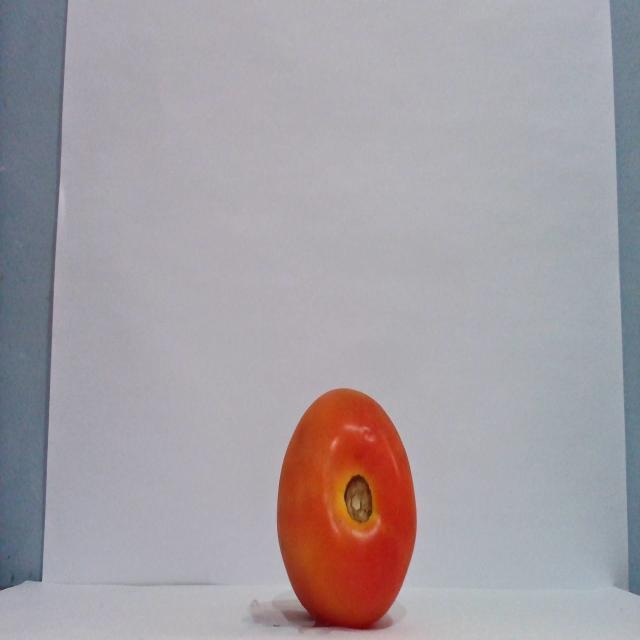Red: (275, 386, 418, 629)
